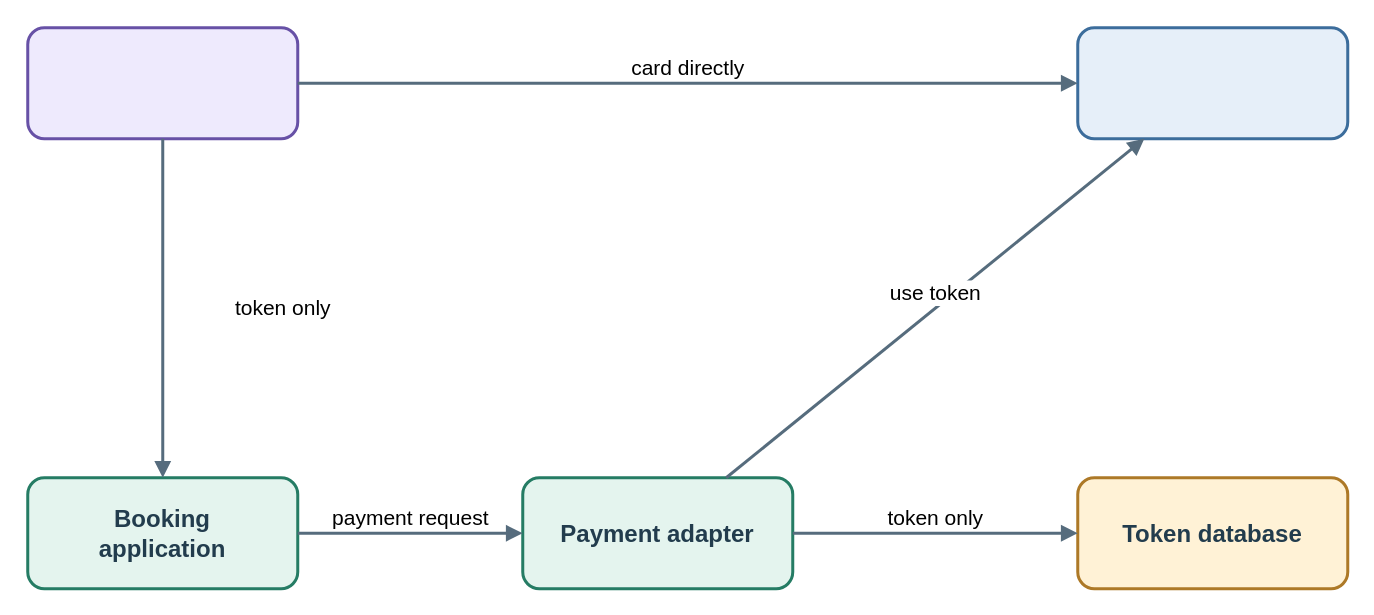
Some shapes in this 1374 by 615 pixel diagram are drawn without their labels. The box of each missing label's shape, as (x1, y1, x2, y2) in pixels:
Customer browser: (26, 26, 298, 140)
External card vault: (1076, 26, 1348, 140)
